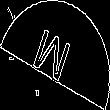M_SW: (32, 22, 78, 88)
